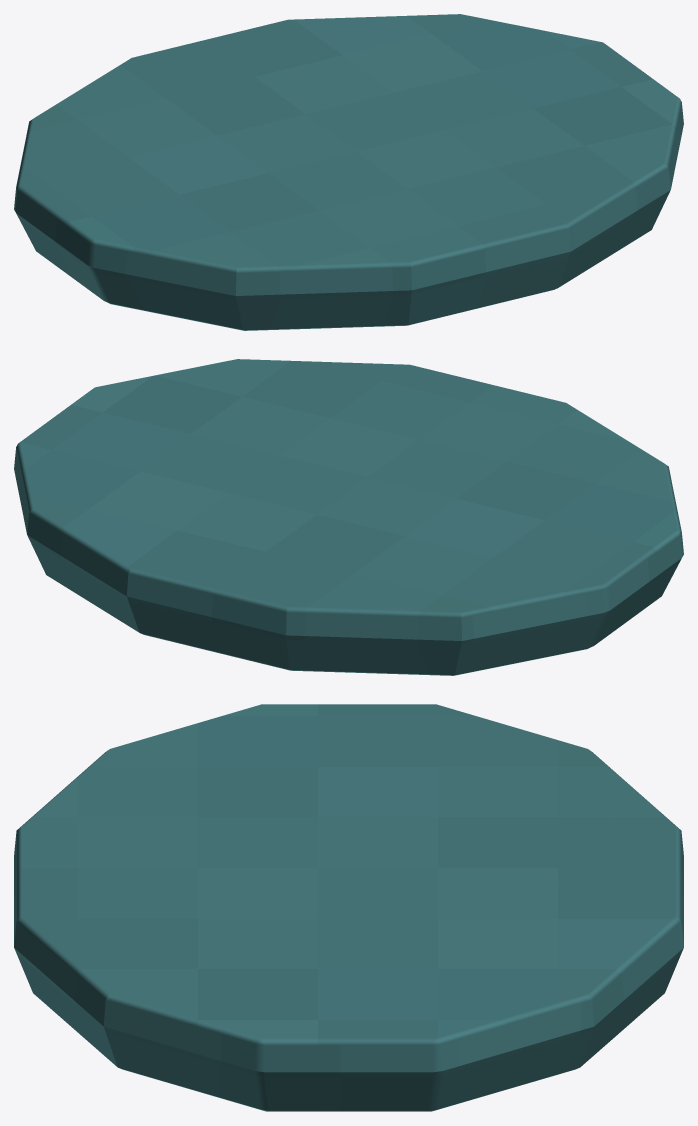
The model's file is Foot.glb.
3 views of the same model, one above another, from view 1: azimuth 30°, elevation 25°; view 2: azimuth 150°, elevation 25°; view 3: azimuth 270°, elevation 25° (orthographic). The views are drawn at different scales.
Parts seen in each view (by area): view 1: Foot; view 2: Foot; view 3: Foot.
Boxes of the visible parts, left/top/right/bottom form: Foot: left=14, top=14, right=683, bottom=330; Foot: left=14, top=359, right=683, bottom=675; Foot: left=14, top=704, right=683, bottom=1111.
Bounding box in the file's own units: 0.2627 × 0.03 × 0.2183.
Materials: 1 (1 with a texture image).
